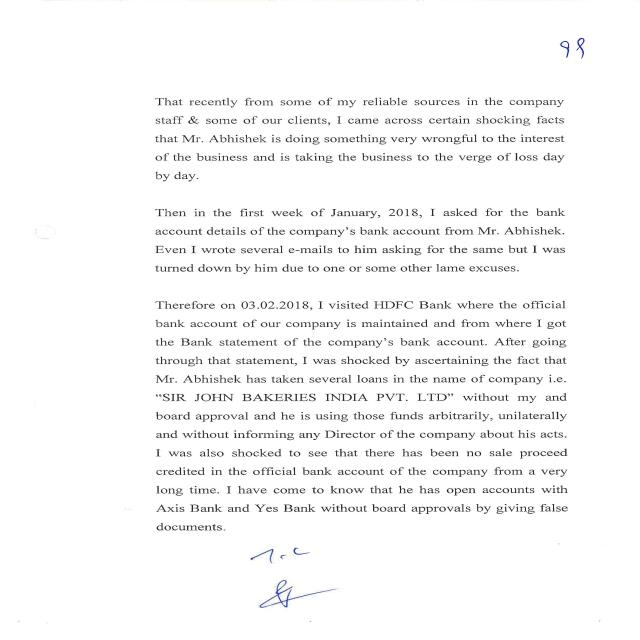page-number: (375, 3, 634, 92)
